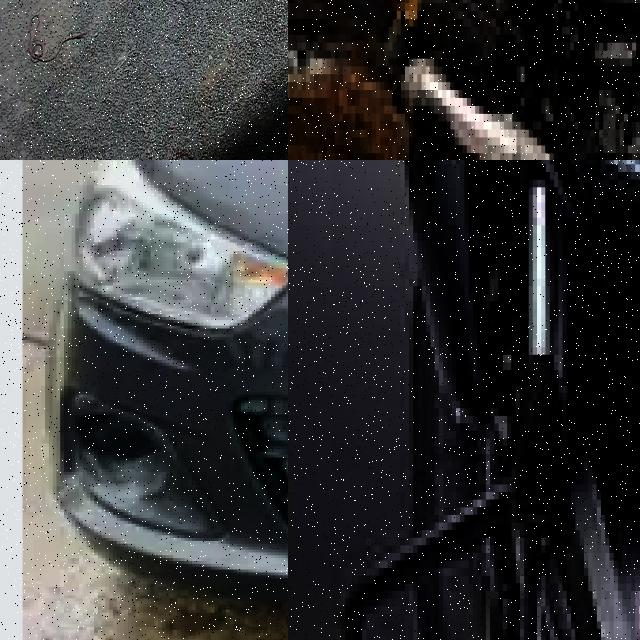bike: (288, 160, 640, 640), (388, 0, 640, 160)
car: (109, 160, 288, 610)
